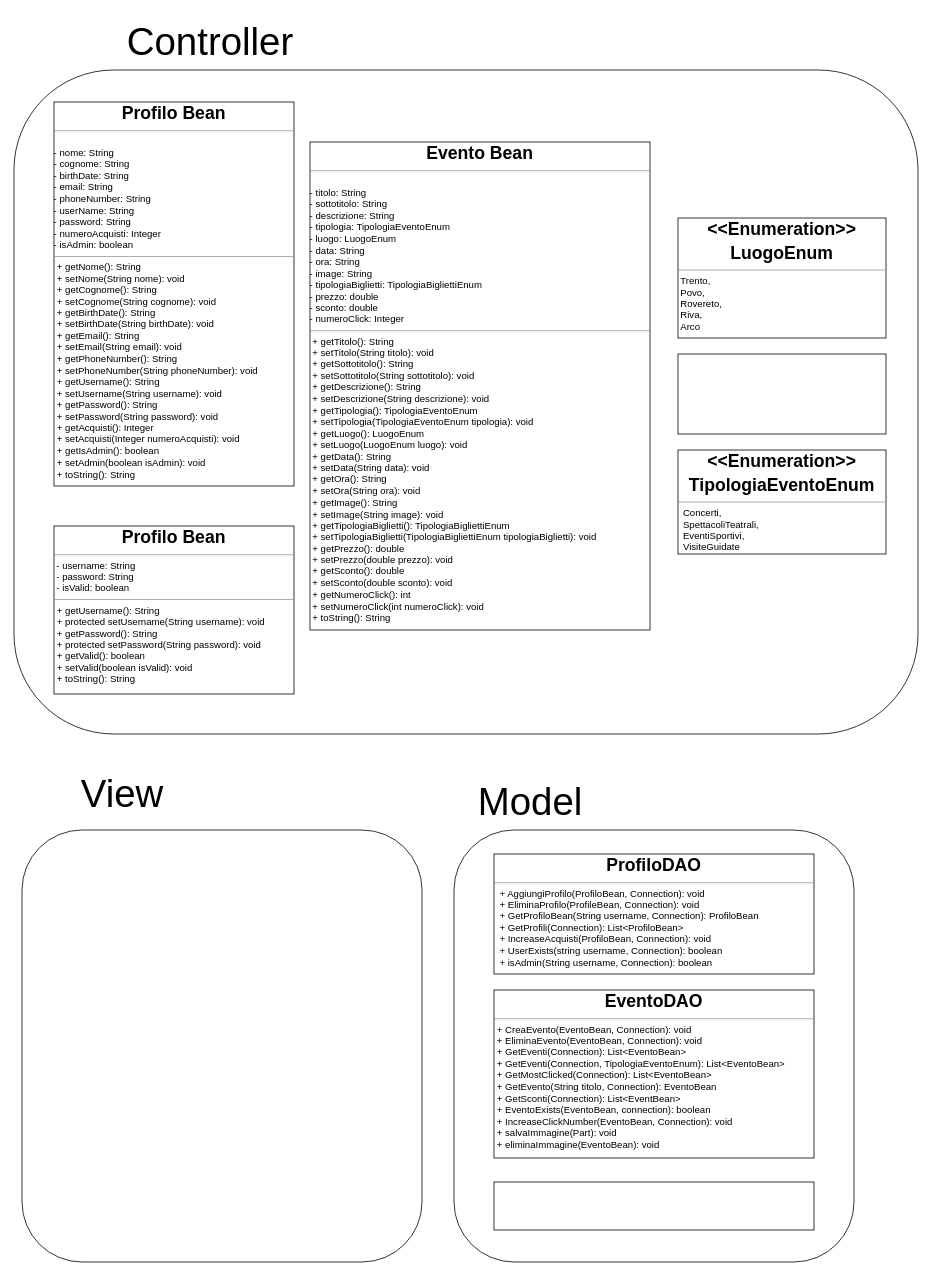
The diagram is 932 pixels wide and 1276 high, and some of its shapes have lost their labels. The shapes that lost their labels are listed below. From the top down, each one's box as (x1, y1, x2, y2) in pixels, then its label:
(677, 353, 886, 434): <<Enumeration>> TipologiaBigliettiEnum InPiedi, Seduti
(493, 1181, 814, 1230): TentativoAccessoDAO + checkUser(TentativoAccessoBean, Connection): void
